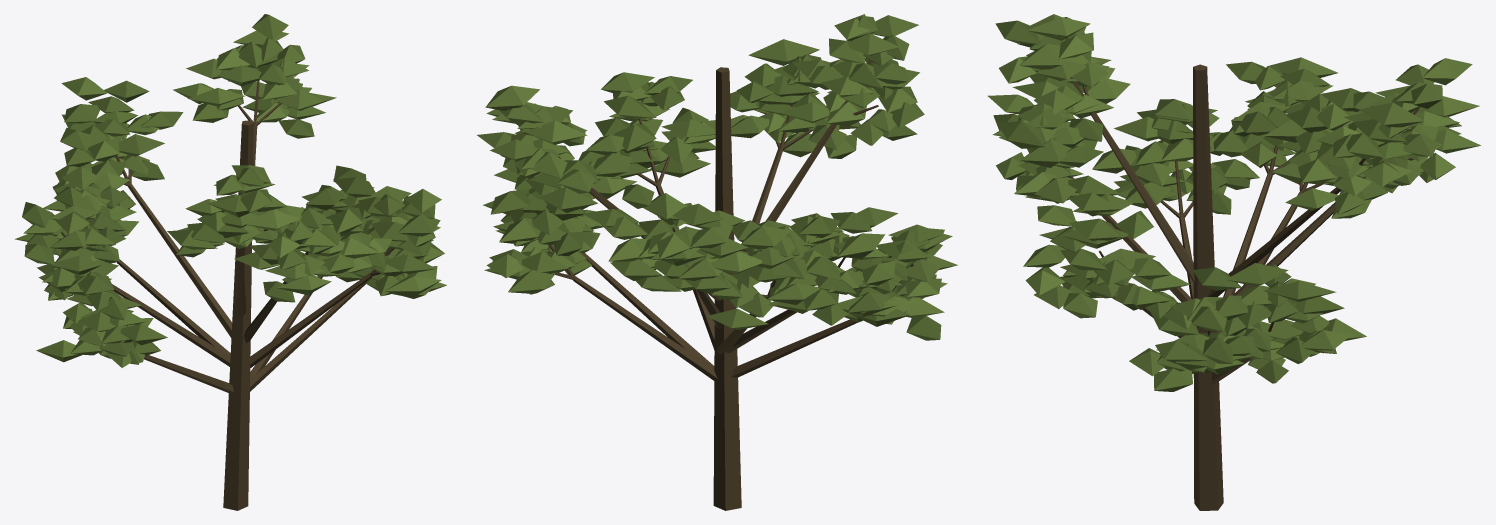
The model's file is tree-close-0.glb.
3 views of the same model, side by side, from view 1: azimuth 30°, elevation 25°; view 2: azimuth 150°, elevation 25°; view 3: azimuth 270°, elevation 25° (orthographic). The views are drawn at different scales.
Parts seen in each view (by area): view 1: Branched crown.001; view 2: Branched crown.001; view 3: Branched crown.001.
Part boxes in pixels (left/top/right/bottom): Branched crown.001: left=15, top=14, right=446, bottom=510; Branched crown.001: left=477, top=14, right=957, bottom=510; Branched crown.001: left=988, top=14, right=1480, bottom=510.
Size of the model in its own units: 1.21 by 1.16 by 1.11.
